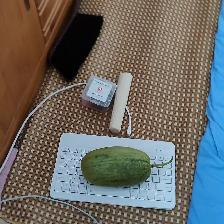gua: (76, 145, 171, 184)
